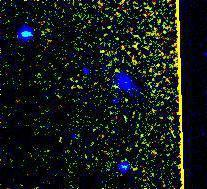star: (111, 86, 141, 116)
